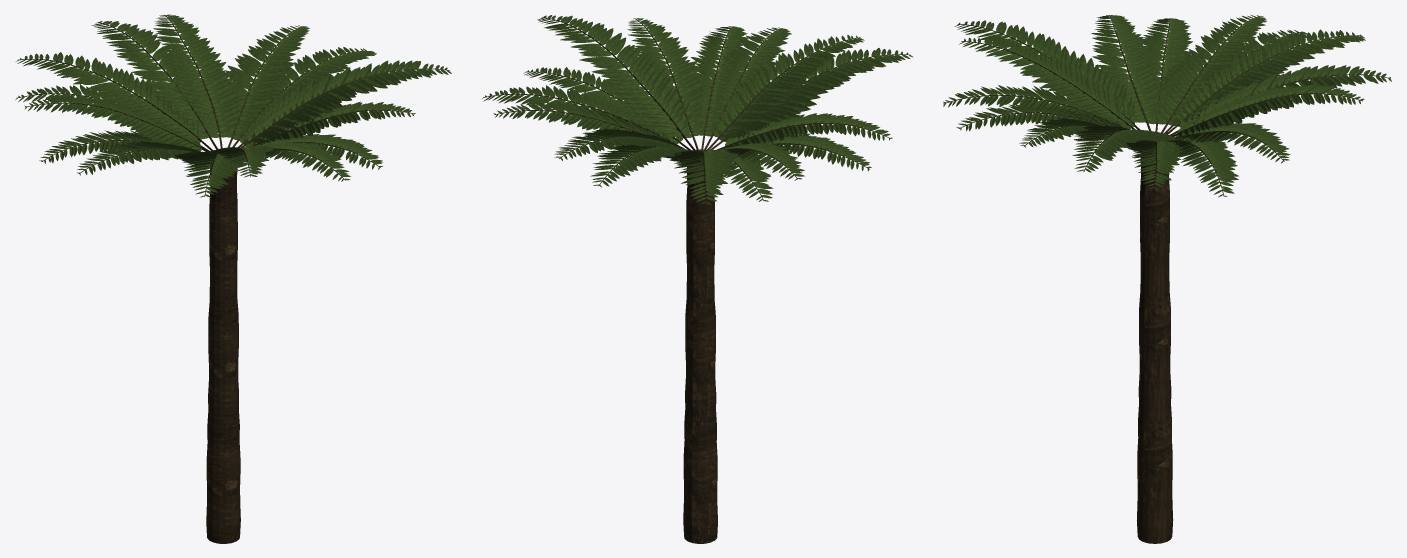
File: tree_fern_v01.fbx
3 views of the same model, side by side, from view 1: azimuth 30°, elevation 25°; view 2: azimuth 150°, elevation 25°; view 3: azimuth 270°, elevation 25° (orthographic). The views are drawn at different scales.
Parts seen in each view (by area): view 1: tree_fern_v01; view 2: tree_fern_v01; view 3: tree_fern_v01.
Part boxes in pixels (bbox=[...]): tree_fern_v01: bbox=[15, 14, 451, 543]; tree_fern_v01: bbox=[482, 15, 913, 543]; tree_fern_v01: bbox=[943, 14, 1391, 543].
Bounding box in the file's own units: 276 × 321 × 279.
2 materials, 2 textured.
